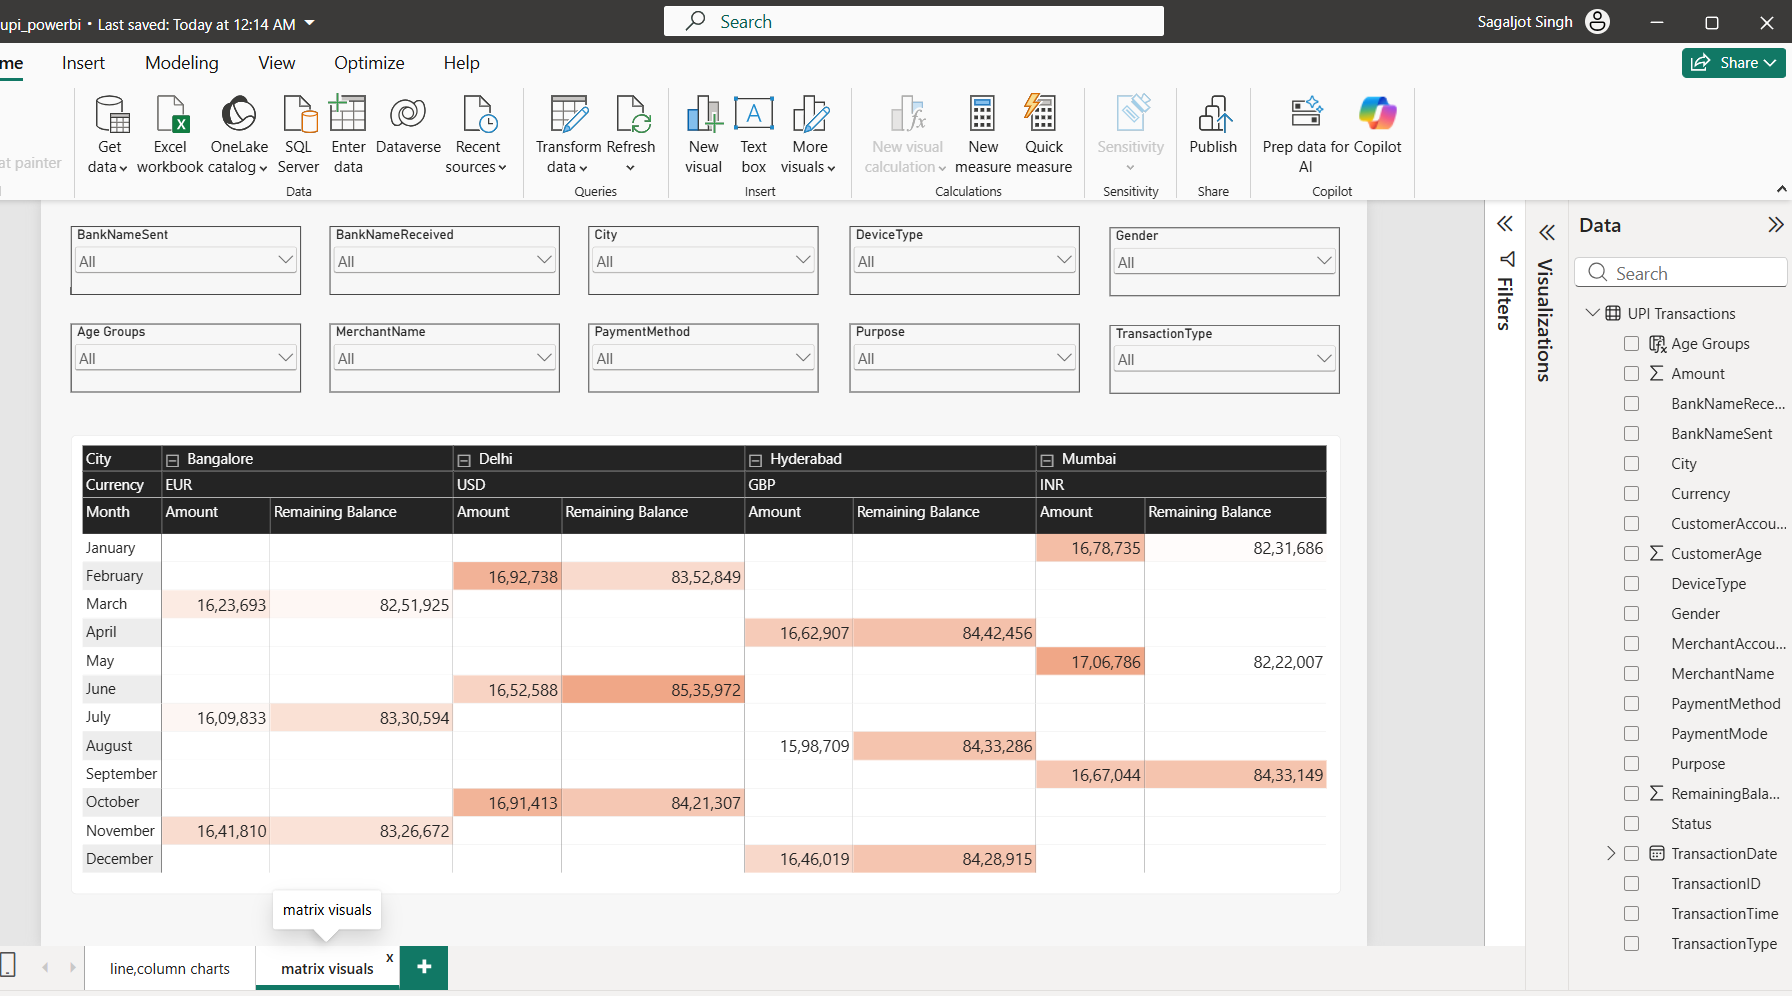

The page's visual inventory and layout, read from the dashboard file:
{"tool":"powerbi","page":{"name":"matrix visuals","canvas":[1920,1080],"ordinal":1},"visuals":[{"type":"slicer","fields":{"Values":["Sheet1.BankNameSent"]},"box":[43.4,38,333,99.5],"z":0},{"type":"slicer","fields":{"Values":["UPI Transactions.City"]},"box":[792.6,38,333,99.5],"z":1000},{"type":"slicer","fields":{"Values":["UPI Transactions.DeviceType"]},"box":[1170.9,38,333,99.5],"z":2000},{"type":"slicer","fields":{"Values":["UPI Transactions.BankNameReceived"]},"box":[418,38,333,99.5],"z":3000},{"type":"slicer","fields":{"Values":["UPI Transactions.Gender"]},"box":[1547.3,39.8,333,99.5],"z":4000},{"type":"slicer","fields":{"Values":["UPI Transactions.Age Groups"]},"box":[43.4,179.2,333,99.5],"z":5000},{"type":"slicer","fields":{"Values":["UPI Transactions.PaymentMethod"]},"box":[792.5,179.7,333,99.5],"z":6000},{"type":"slicer","fields":{"Values":["UPI Transactions.Purpose"]},"box":[1170.7,179.7,333,99.5],"z":7000},{"type":"slicer","fields":{"Values":["UPI Transactions.MerchantName"]},"box":[417.9,179.7,333,99.5],"z":8000},{"type":"slicer","fields":{"Values":["UPI Transactions.TransactionType"]},"box":[1547.1,181.6,333,99.5],"z":9000},{"type":"pivotTable","fields":{"Columns":["UPI Transactions.City","UPI Transactions.Currency"],"Rows":["UPI Transactions.TransactionDate.Variation.Date Hierarchy.Month"],"Values":["Sum(UPI Transactions.Amount)","Sum(UPI Transactions.RemainingBalance)"]},"box":[43.4,340.2,1838.1,664.8],"z":9001}]}

Visuals, with their boxes on the page's 1920x1080 design canvas (x1, y1, x2, y2). These are canvas units, not pixel positions in the 1792x996 screenshot, which may show the page scaled, cropped or inside an application window:
slicer - Sheet1.BankNameSent: [left=43, top=38, right=376, bottom=138]
slicer - UPI Transactions.City: [left=793, top=38, right=1126, bottom=138]
slicer - UPI Transactions.DeviceType: [left=1171, top=38, right=1504, bottom=138]
slicer - UPI Transactions.BankNameReceived: [left=418, top=38, right=751, bottom=138]
slicer - UPI Transactions.Gender: [left=1547, top=40, right=1880, bottom=139]
slicer - UPI Transactions.Age Groups: [left=43, top=179, right=376, bottom=279]
slicer - UPI Transactions.PaymentMethod: [left=792, top=180, right=1126, bottom=279]
slicer - UPI Transactions.Purpose: [left=1171, top=180, right=1504, bottom=279]
slicer - UPI Transactions.MerchantName: [left=418, top=180, right=751, bottom=279]
slicer - UPI Transactions.TransactionType: [left=1547, top=182, right=1880, bottom=281]
pivotTable - UPI Transactions.City x UPI Transactions.Currency: [left=43, top=340, right=1882, bottom=1005]
